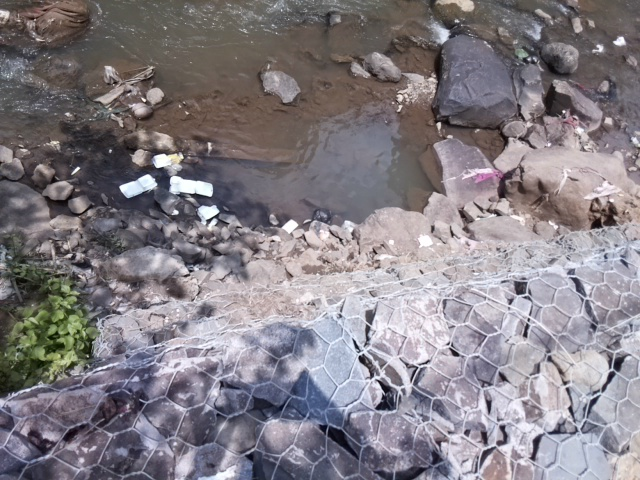Sampah_Plastik: (461, 167, 508, 181), (314, 207, 331, 225), (562, 110, 578, 126)
Sampah_Styrofoam: (168, 174, 216, 198), (119, 174, 160, 200), (149, 153, 173, 169), (194, 204, 220, 218), (279, 219, 298, 233)
